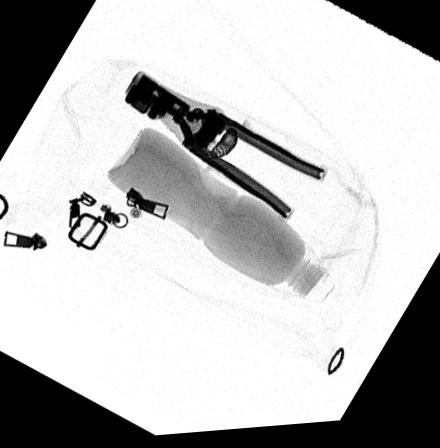Pliers: (123, 76, 323, 224)
